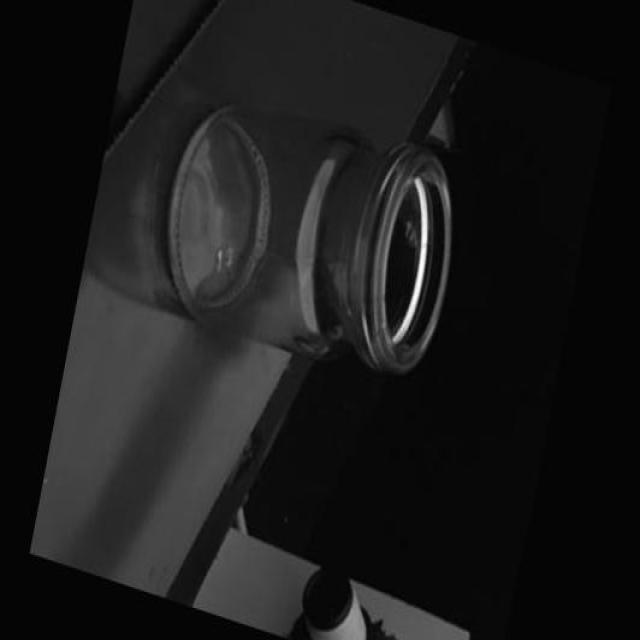defect: (356, 290, 397, 354)
glass: (141, 48, 482, 419)
